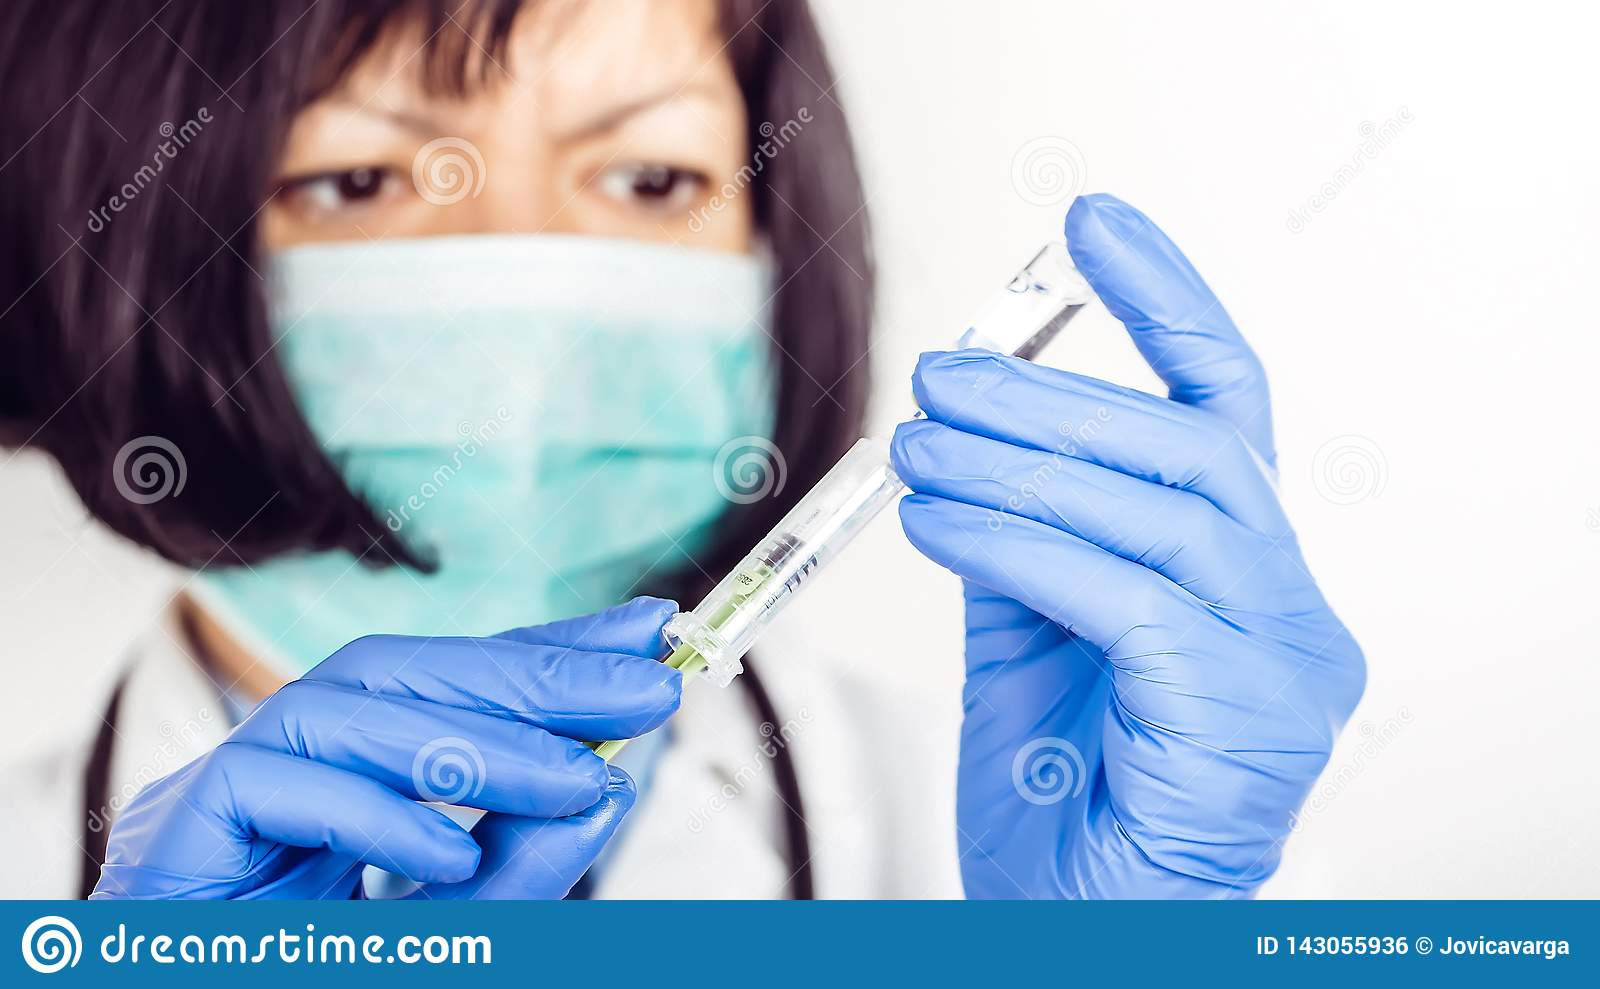mask: (199, 225, 785, 686)
